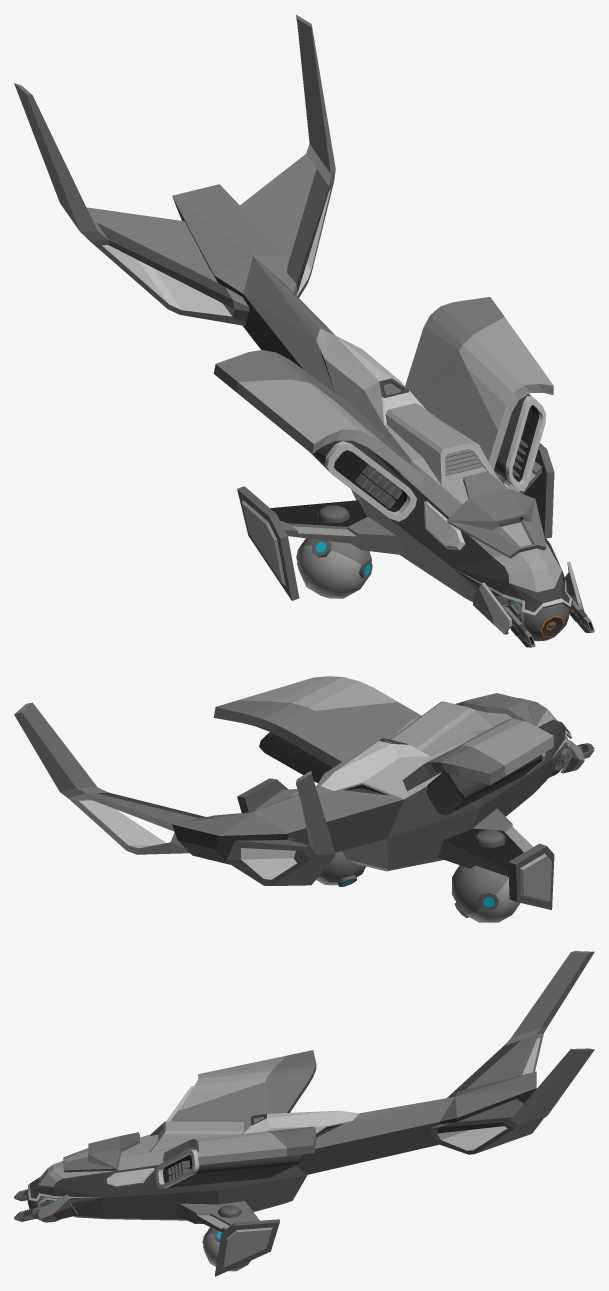
Rendered from starship_004.fbx.
3 renders of one model, top to bottom at view 1: azimuth 30°, elevation 25°; view 2: azimuth 150°, elevation 25°; view 3: azimuth 270°, elevation 25°, orthographic. The views are drawn at different scales.
Parts seen in each view (by area): view 1: starship_004; view 2: starship_004; view 3: starship_004.
Part boxes in pixels (left/top/right/bottom): starship_004: left=14, top=14, right=594, bottom=647; starship_004: left=14, top=676, right=594, bottom=922; starship_004: left=14, top=951, right=594, bottom=1276.
Bounding box in the file's own units: 1218 × 3017 × 1384.
